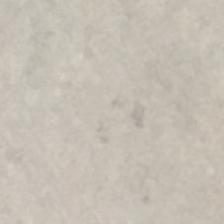Non_Crack: (25, 47, 199, 184)
